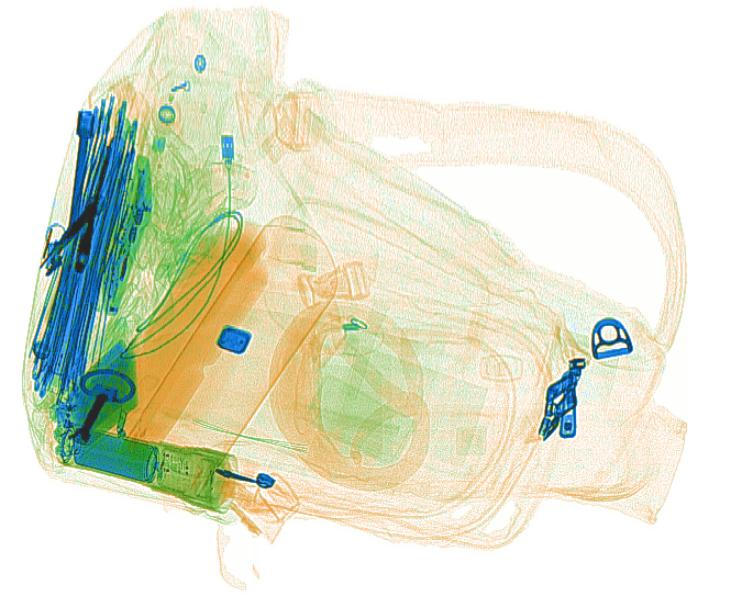battery: (72, 426, 161, 485)
